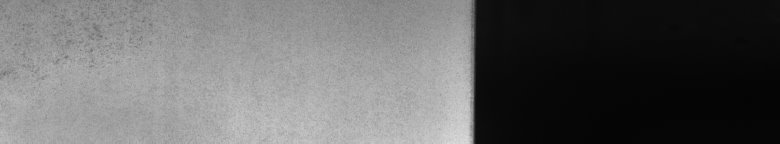ib: (4, 8, 152, 80)
